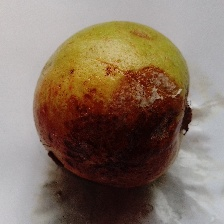guava: (44, 42, 216, 195)
